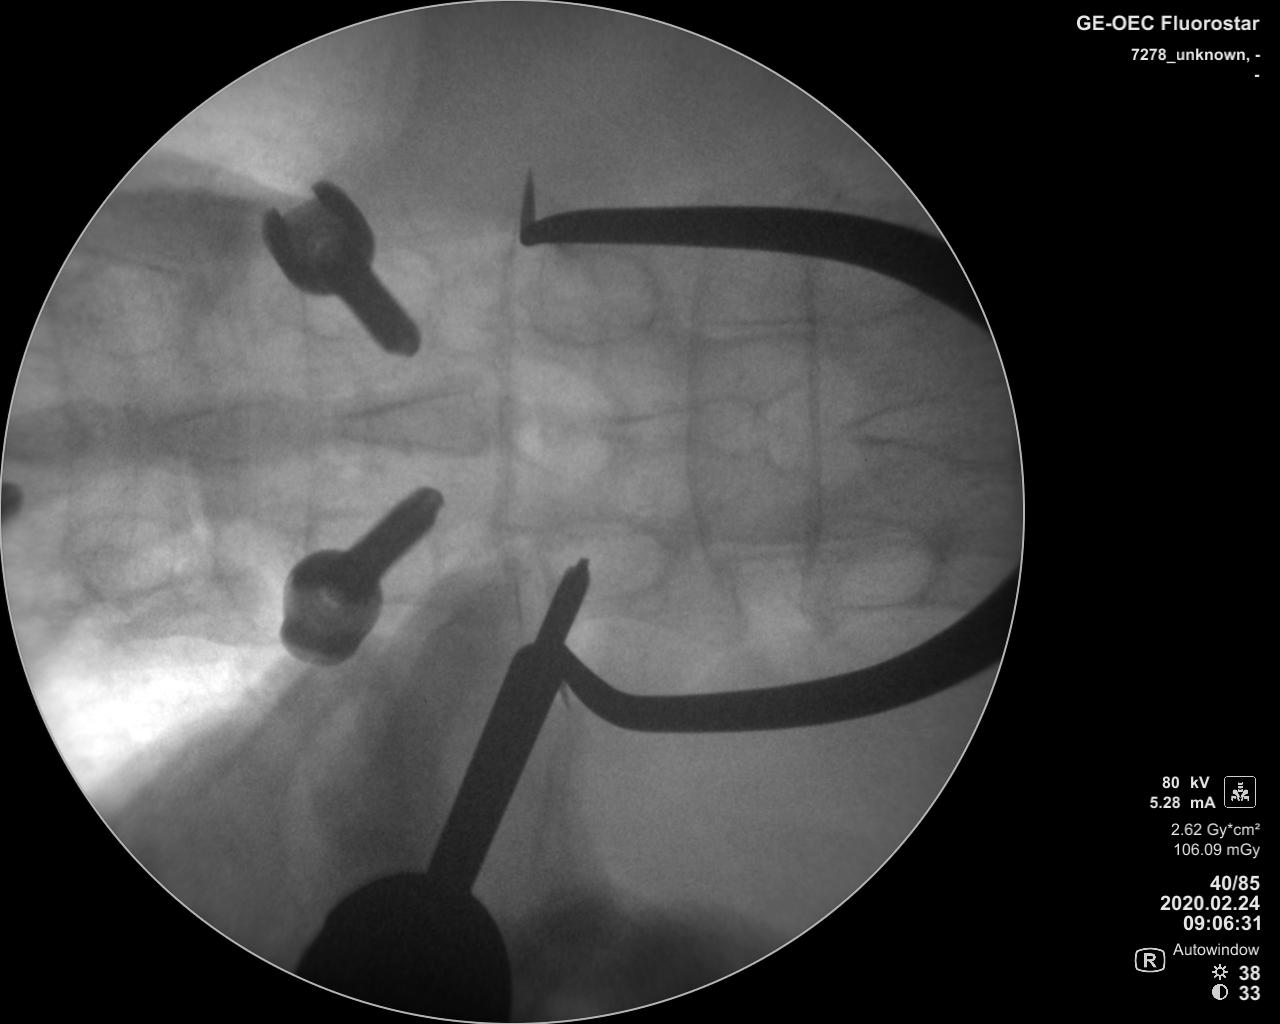eyes: (301, 241, 449, 338), (513, 247, 660, 343), (304, 509, 441, 605), (57, 508, 199, 599), (64, 263, 193, 359), (799, 518, 937, 608), (535, 518, 674, 604)
line: (493, 239, 527, 616), (685, 246, 719, 610), (792, 257, 829, 566), (290, 293, 321, 553)
nose: (833, 387, 1014, 469), (577, 389, 766, 457), (332, 387, 507, 458), (148, 395, 321, 465), (11, 403, 150, 476)
